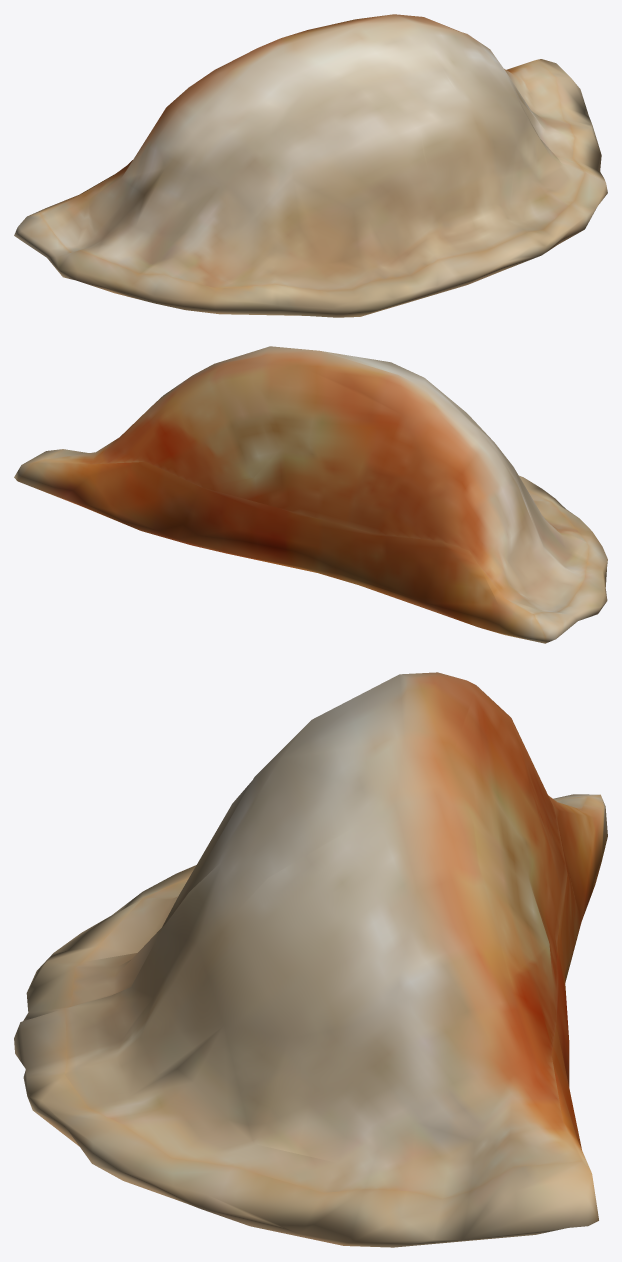
File: ref_frieddumpling.glb
The picture shows the model from 3 angles, top to bottom: view 1: azimuth 30°, elevation 25°; view 2: azimuth 150°, elevation 25°; view 3: azimuth 270°, elevation 25°; orthographic projection. The views are drawn at different scales.
Parts seen in each view (by area): view 1: ref_frieddumpling_part0; view 2: ref_frieddumpling_part0; view 3: ref_frieddumpling_part0.
Part boxes in pixels (x1,y1,x2,y2): ref_frieddumpling_part0: (14, 14, 607, 317); ref_frieddumpling_part0: (14, 346, 607, 643); ref_frieddumpling_part0: (14, 672, 607, 1247).
Size of the model in its own units: 1 by 0.356 by 0.5324.
Materials: 1 (1 with a texture image).
